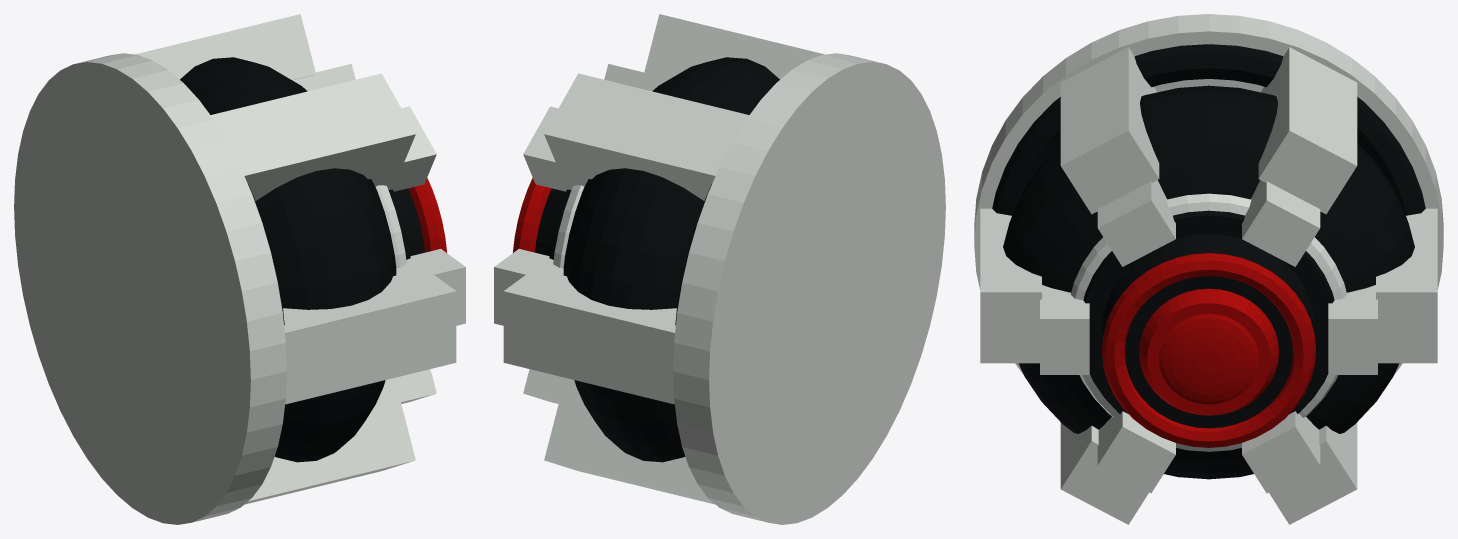
File: SM_EnergyBallEmitter.obj
The picture shows the model from 3 angles, left to right: view 1: azimuth 30°, elevation 25°; view 2: azimuth 150°, elevation 25°; view 3: azimuth 270°, elevation 25°; orthographic projection.
Visible parts, largest first — view 1: SM_EnergyBallEmitter; view 2: SM_EnergyBallEmitter; view 3: SM_EnergyBallEmitter.
Boxes of the visible parts, <box> form: SM_EnergyBallEmitter: <box>14,14,465,524</box>; SM_EnergyBallEmitter: <box>494,14,945,524</box>; SM_EnergyBallEmitter: <box>974,14,1443,524</box>.
Size of the model in its own units: 78 by 114 by 114.
